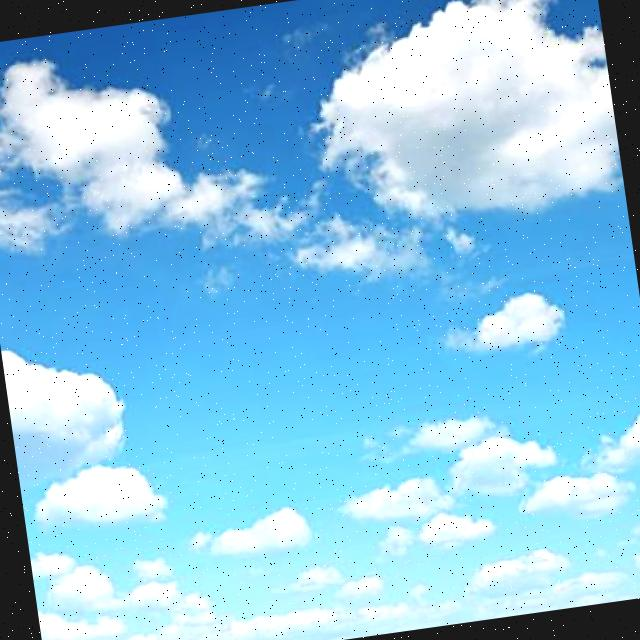Cu: (1, 1, 640, 637)
